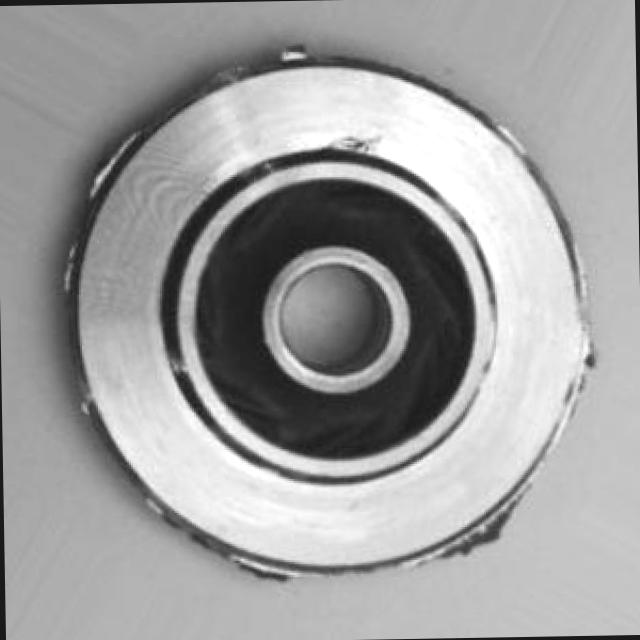Defect: (269, 33, 326, 68)
